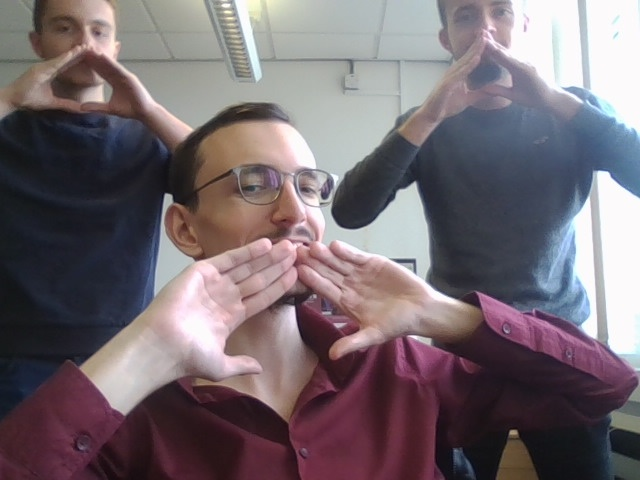thankyou: (148, 238, 430, 381), (426, 30, 550, 120), (14, 44, 149, 124)
